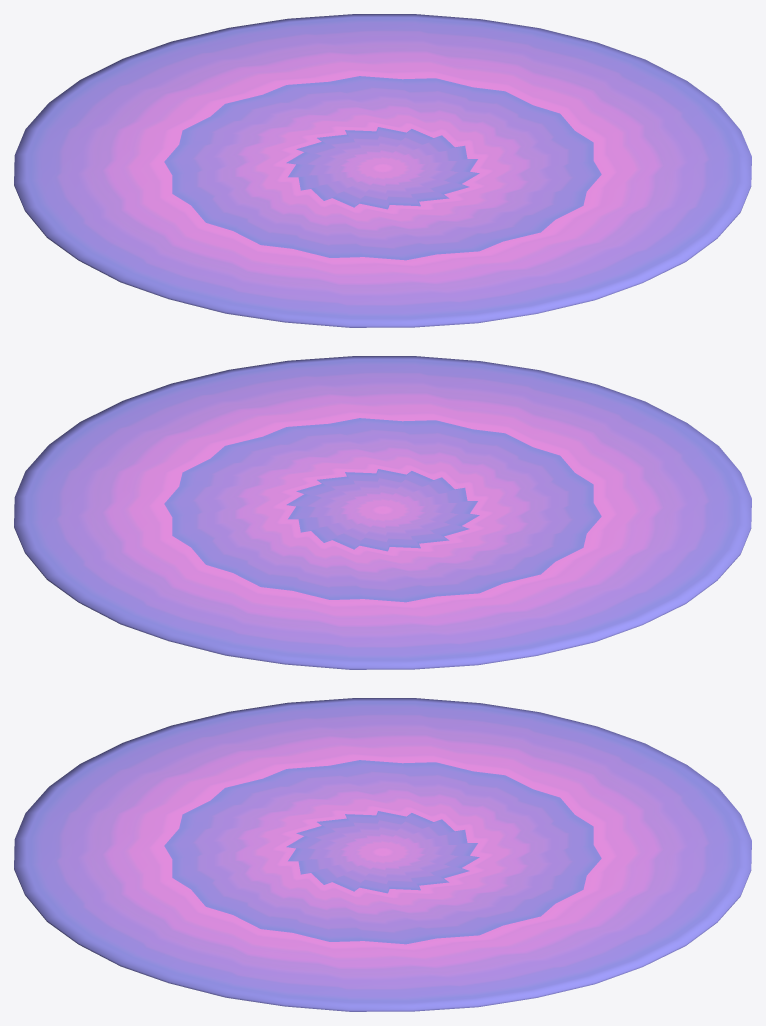
Rendered from Rug_Circle_01.glb.
The picture shows the model from 3 angles, top to bottom: view 1: azimuth 30°, elevation 25°; view 2: azimuth 150°, elevation 25°; view 3: azimuth 270°, elevation 25°; orthographic projection.
Parts seen in each view (by area): view 1: Rug_Circle; view 2: Rug_Circle; view 3: Rug_Circle.
Boxes of the visible parts, left/top/right/bottom form: Rug_Circle: left=14, top=14, right=751, bottom=327; Rug_Circle: left=14, top=356, right=751, bottom=669; Rug_Circle: left=14, top=698, right=751, bottom=1011.
Size of the model in its own units: 2.22 by 0.0128 by 2.22.
1 material, 1 textured.
